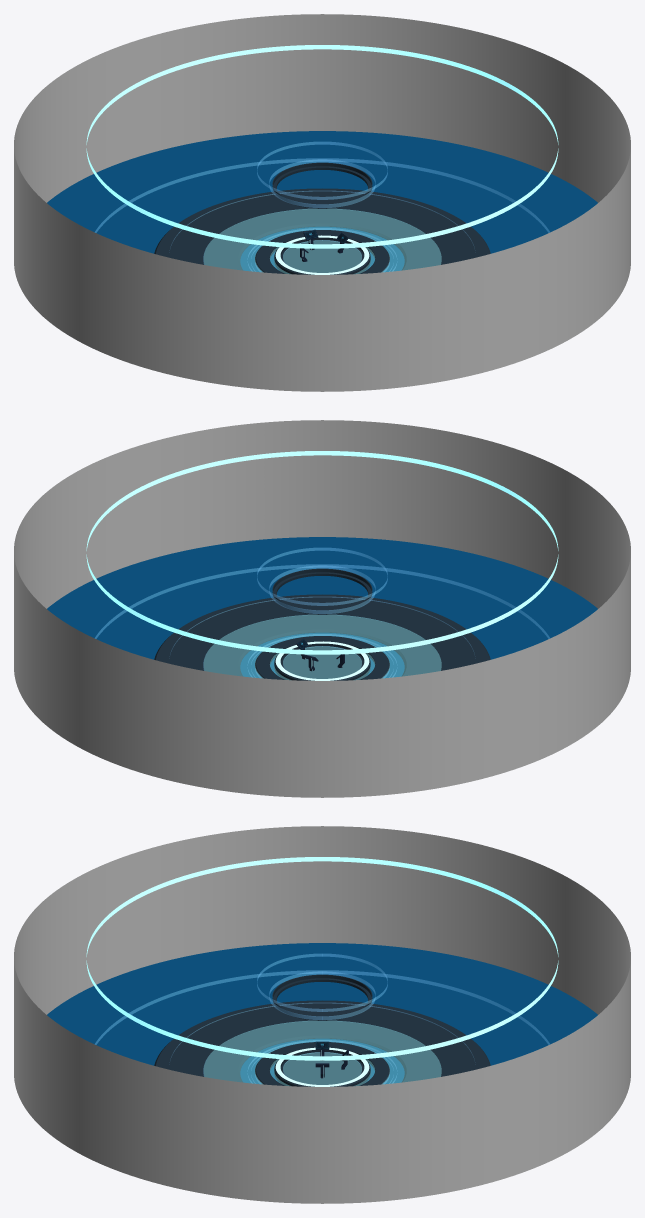
The model's file is MOPRO-694_UnityExport2_240620.fbx.
3 renders of one model, top to bottom at view 1: azimuth 30°, elevation 25°; view 2: azimuth 150°, elevation 25°; view 3: azimuth 270°, elevation 25°, orthographic.
Visible parts, largest first — view 1: sideWall, floorMesh, MainFloor, centralLightStageBig, highBigRingLight, flatCentre, centralLightStageSmall, lowBigRingLight, topSceneHangRing, topLightRing1, topLightRing2, CentralLightRing; view 2: sideWall, floorMesh, MainFloor, centralLightStageBig, highBigRingLight, flatCentre, lowBigRingLight, centralLightStageSmall, topSceneHangRing, topLightRing1, topLightRing2, CentralLightRing; view 3: sideWall, floorMesh, MainFloor, centralLightStageBig, highBigRingLight, flatCentre, centralLightStageSmall, lowBigRingLight, topSceneHangRing, topLightRing1, topLightRing2, CentralLightRing.
Part boxes in pixels (x1,y1,x2,y2): sideWall: (14,14,630,391); floorMesh: (47,131,597,272); MainFloor: (154,188,490,270); centralLightStageBig: (203,208,441,273); highBigRingLight: (86,45,558,248); flatCentre: (255,230,389,274); centralLightStageSmall: (283,240,361,272); lowBigRingLight: (95,158,549,232); topSceneHangRing: (272,162,372,208); topLightRing1: (257,142,387,199); topLightRing2: (269,159,375,207); CentralLightRing: (275,235,369,274); sideWall: (14,420,630,797); floorMesh: (47,537,597,678); MainFloor: (154,594,490,676); centralLightStageBig: (203,614,441,679); highBigRingLight: (86,451,558,654); flatCentre: (255,636,389,680); lowBigRingLight: (95,564,549,638); centralLightStageSmall: (283,646,361,678); topSceneHangRing: (272,568,372,614); topLightRing1: (257,548,387,605); topLightRing2: (269,565,375,613); CentralLightRing: (275,641,369,680); sideWall: (14,826,630,1203); floorMesh: (47,943,597,1084); MainFloor: (154,1000,490,1082); centralLightStageBig: (203,1020,441,1085); highBigRingLight: (86,857,558,1060); flatCentre: (255,1042,389,1086); centralLightStageSmall: (283,1052,361,1084); lowBigRingLight: (95,970,549,1044); topSceneHangRing: (272,974,372,1020); topLightRing1: (257,954,387,1011); topLightRing2: (269,971,375,1019); CentralLightRing: (275,1047,369,1086).
Bounding box in the file's own units: 1257 × 273 × 1257.
